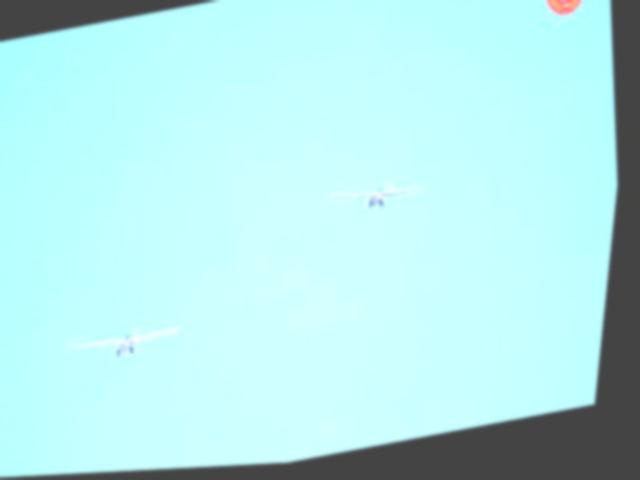uav: (69, 315, 199, 369), (332, 170, 430, 223)
